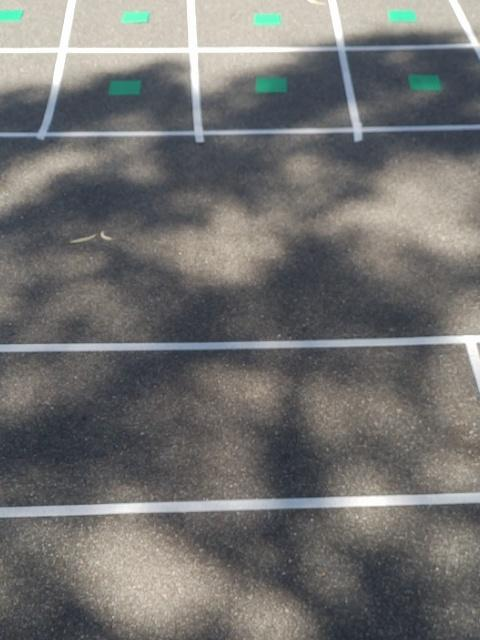weed: (107, 78, 144, 99), (409, 73, 442, 93), (255, 76, 290, 94), (387, 9, 418, 24), (254, 10, 281, 27), (120, 10, 151, 24), (0, 8, 25, 23)
